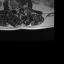CCS_normal: (16, 5, 18, 14)
LFS_severe_stenosis: (20, 4, 22, 10)
LLS_normal: (18, 5, 20, 13)
RFS_stenosis: (13, 6, 15, 12)
RLS_normal: (15, 5, 16, 13)
